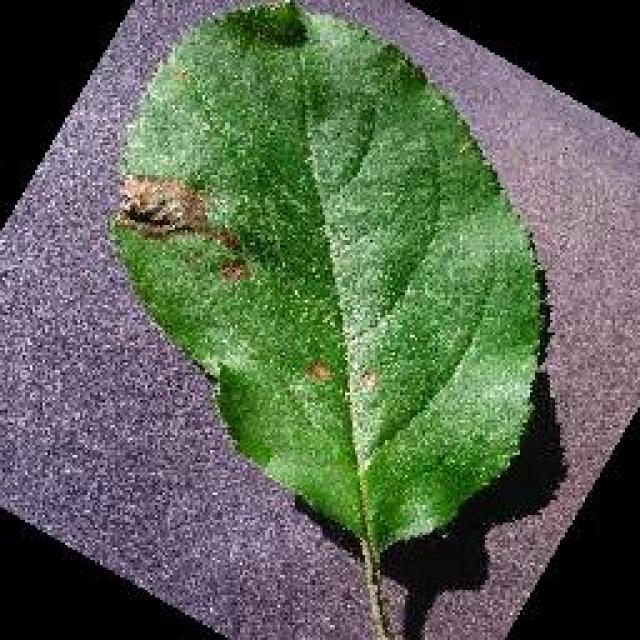Black_rot: (105, 0, 547, 565)
